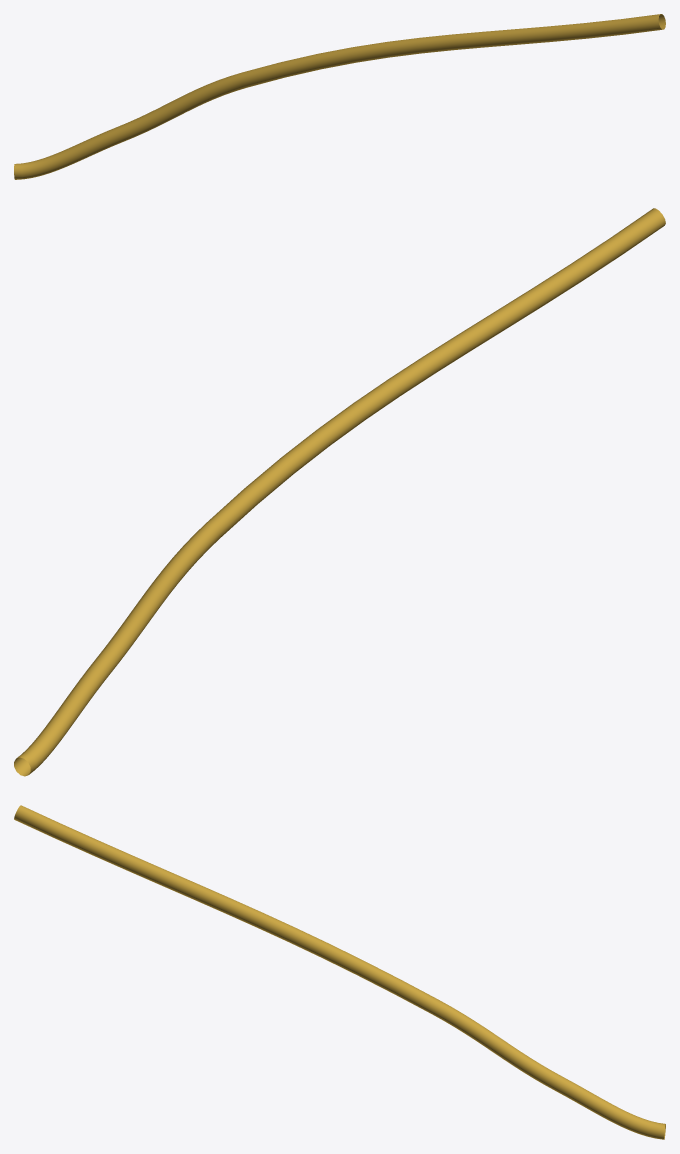
3 renders of one model, top to bottom at view 1: azimuth 90°, elevation 25°; view 2: azimuth 150°, elevation 25°; view 3: azimuth 270°, elevation 25°, orthographic. The views are drawn at different scales.
Parts seen in each view (by area): view 1: 左侧尺神经浅支; view 2: 左侧尺神经浅支; view 3: 左侧尺神经浅支.
Boxes of the visible parts, x1,y1,x2,y2 form: 左侧尺神经浅支: (14, 14, 665, 179); 左侧尺神经浅支: (14, 208, 665, 776); 左侧尺神经浅支: (14, 805, 665, 1139).
Bounding box in the file's own units: 0.0195 × 0.0249 × 0.0591.
